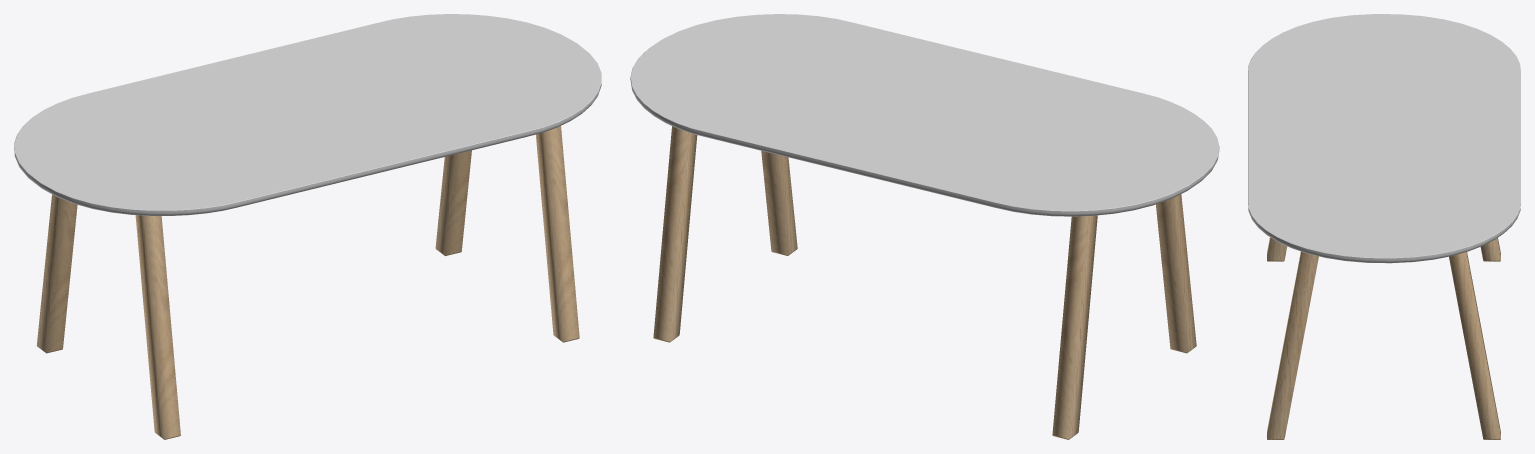
The model's file is BGID02331.glb.
3 views of the same model, side by side, from view 1: azimuth 30°, elevation 25°; view 2: azimuth 150°, elevation 25°; view 3: azimuth 270°, elevation 25° (orthographic). The views are drawn at different scales.
Parts seen in each view (by area): view 1: BP_BGID02331; view 2: BP_BGID02331; view 3: BP_BGID02331.
Boxes of the visible parts, x1,y1,x2,y2 form: BP_BGID02331: [14, 14, 601, 439]; BP_BGID02331: [630, 14, 1219, 439]; BP_BGID02331: [1248, 14, 1520, 439].
Size of the model in its own units: 1.8 by 0.7269 by 0.85.
2 materials, 1 textured.
